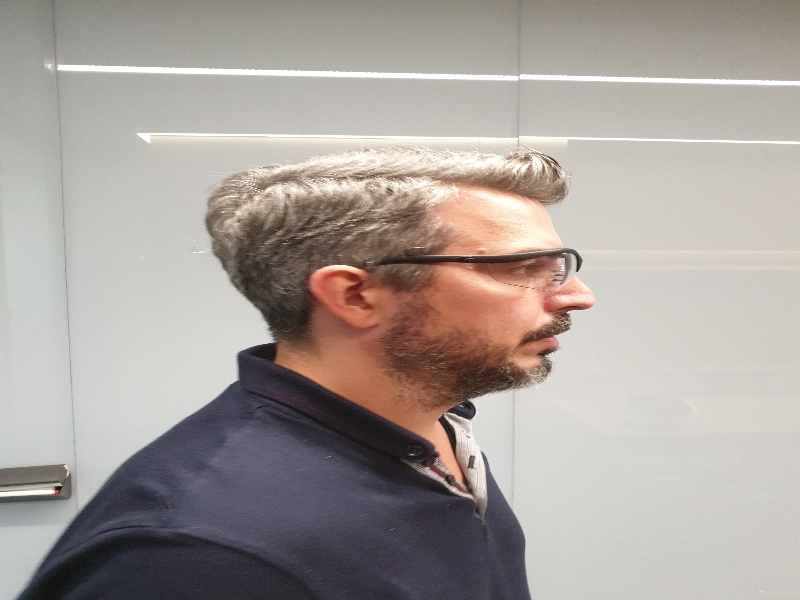Gozluk: (378, 248, 585, 288)
